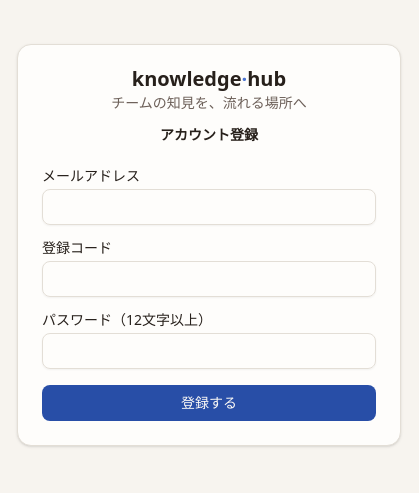
Test: ClaimPage › ネットワーク例外でもエラーメッセージを表示する
The image size is (419, 493).
In the field labelled "メールアドレス": (209, 207) [42,189,376,225], type "a@example.com"
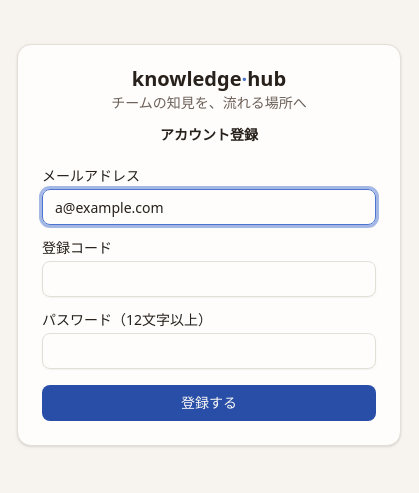
In the field labelled "登録コード": (209, 279) [42,261,376,297], type "ABC123"
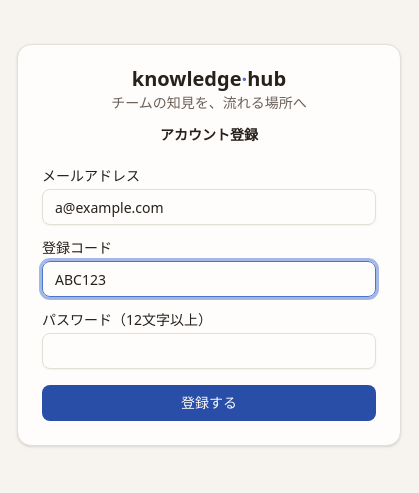
In the password field labelled "パスワード（12文字以上）": (209, 351) [42,333,376,369], type "my-password-123"
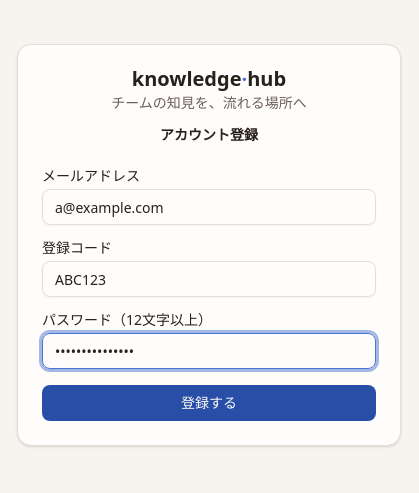
Click the button "登録する": (209, 403) [42,385,376,421]
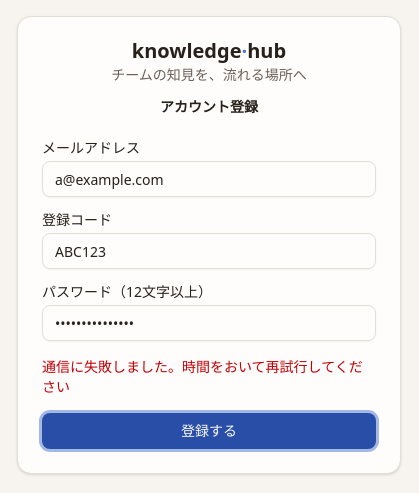
Expected: the message shows "通信に失敗", [42,357,363,396]
